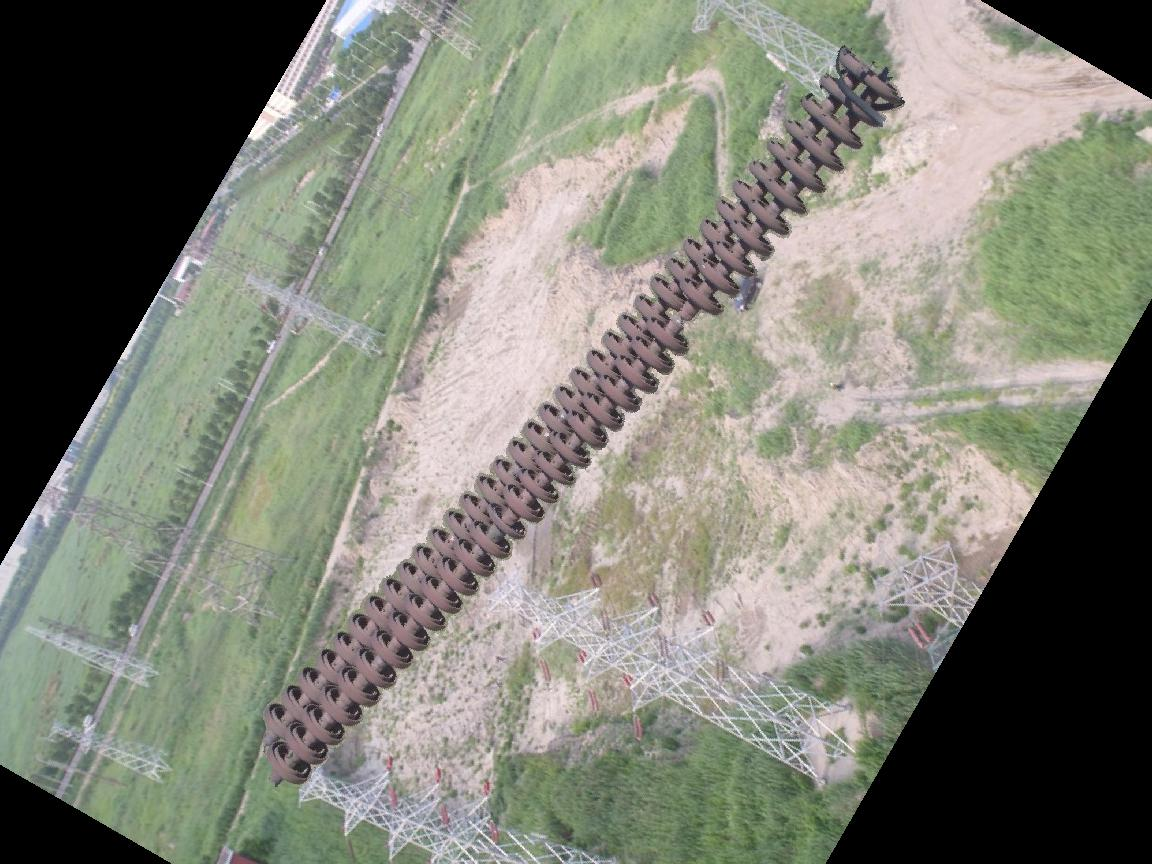insulator: (253, 41, 898, 792)
insulator_stringdrop: (645, 279, 724, 359)
